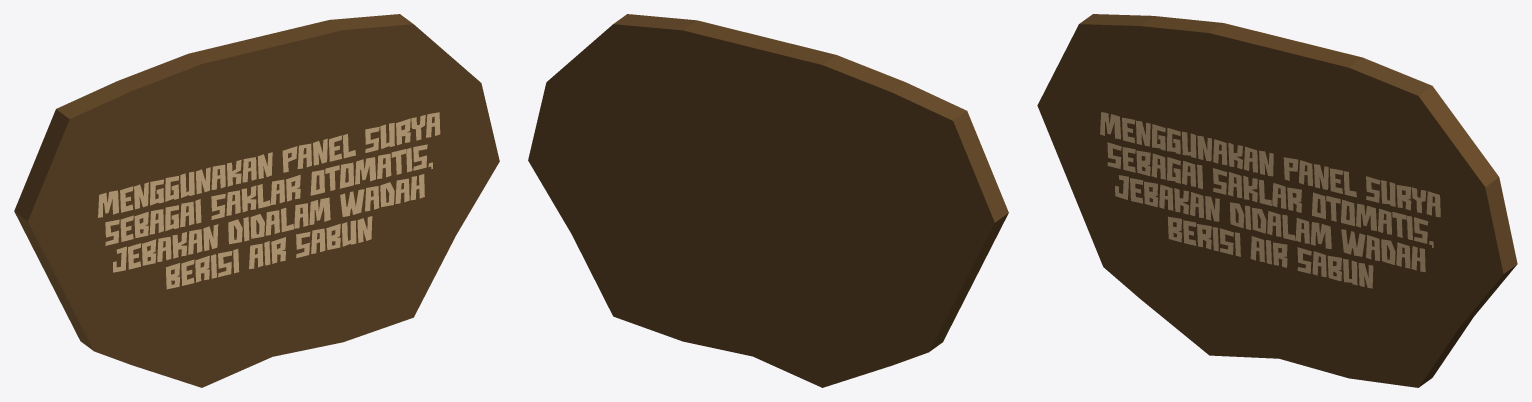
Rendered from ui_3_PENGUSIR HAMA.fbx.
The picture shows the model from 3 angles, left to right: view 1: azimuth 30°, elevation 25°; view 2: azimuth 150°, elevation 25°; view 3: azimuth 330°, elevation 25°; orthographic projection.
Visible parts, largest first — view 1: Cube.003, Text.002; view 2: Cube.003; view 3: Cube.003, Text.002.
Boxes of the visible parts, box(x1,y1,x2,y2) form: Cube.003: box(14, 14, 499, 387); Text.002: box(98, 112, 440, 289); Cube.003: box(528, 14, 1008, 387); Cube.003: box(1037, 14, 1517, 387); Text.002: box(1100, 112, 1440, 288).
Bounding box in the file's own units: 256 × 168 × 16.5.
